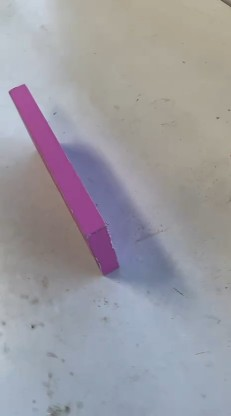pink: (0, 76, 124, 271)
